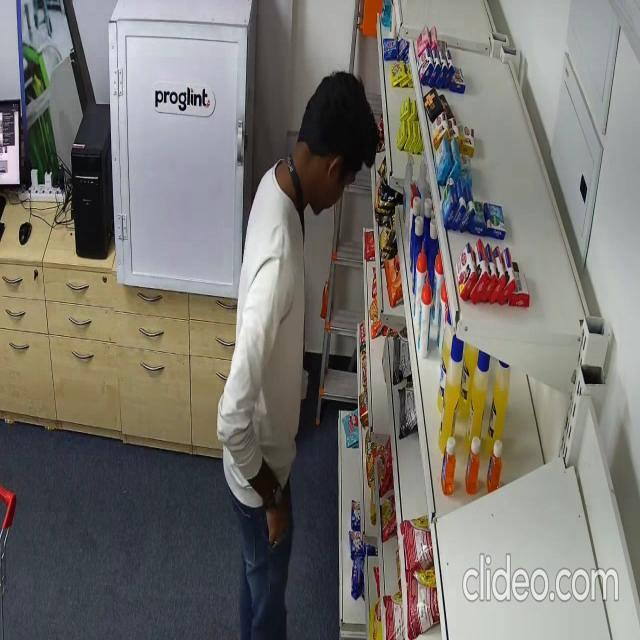Shoplifting: (217, 68, 378, 640)
